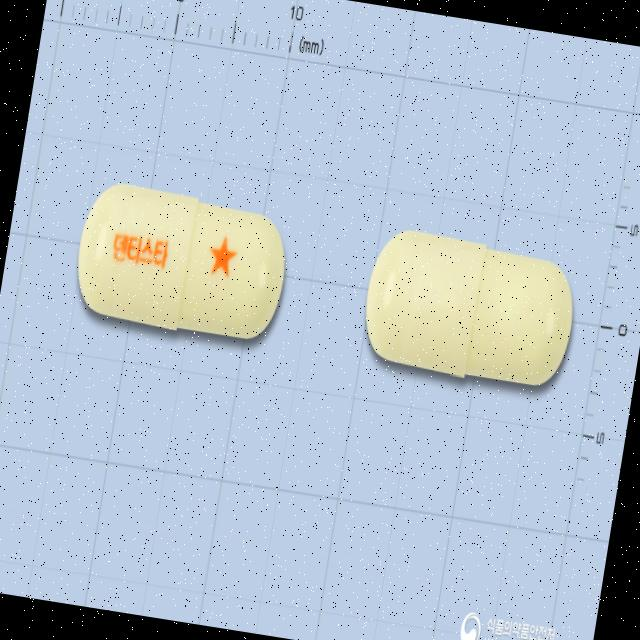Dentistar Cap: (68, 176, 298, 348), (357, 223, 584, 396)
